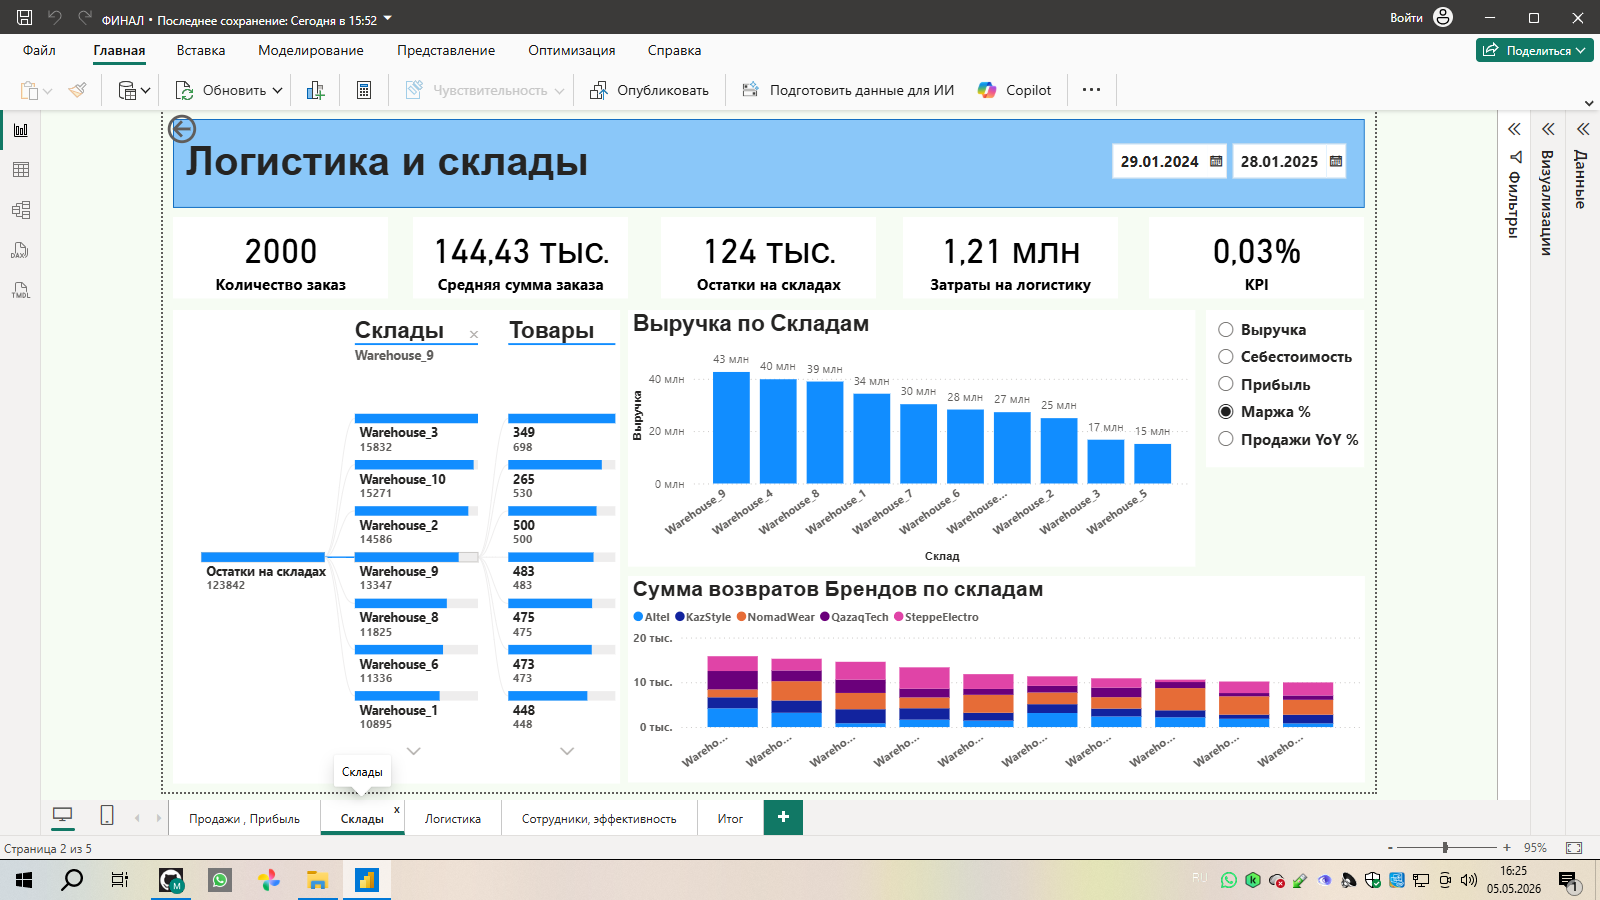

This screenshot's page, from the dashboard's own definition file:
{"tool":"powerbi","page":{"name":"Склады","canvas":[1280,720],"ordinal":1},"visuals":[{"type":"shape","box":[10.3,9,1258.2,93.8],"z":0},{"type":"textbox","box":[19.3,24.4,456.2,64.3],"z":1000},{"type":"slicer","fields":{"Values":["Calendar.Date"]},"box":[989.6,25.7,278.9,60.4],"z":2000},{"type":"card","fields":{"Values":["Summary.Logistics Costs"]},"box":[781.4,113.1,227.5,86.1],"z":3000},{"type":"card","fields":{"Values":["Summary.Остатки на складах"]},"box":[525.6,113.1,227.5,86.1],"z":4000},{"type":"card","fields":{"Values":["Summary.AOV"]},"box":[263.5,113.1,227.5,86.1],"z":5000},{"type":"card","fields":{"Values":["Summary.Заказ"]},"box":[10.3,113.1,227.5,86.1],"z":6000},{"type":"card","fields":{"Values":["Summary.KPI"]},"box":[1041,113.1,227.5,86.1],"z":7000},{"type":"decompositionTreeVisual","fields":{"Analyze":["Summary.Остатки на складах"],"ExplainBy":["Student public_wb.warehouse_name","Student public_stocks.quantity_in_stock"]},"box":[10.3,210.8,471.6,499.9],"z":8000},{"type":"columnChart","title":"Выручка по Складам","fields":{"Y":["Sum(Student public_revenue_wb.revenue_amount)"],"Category":["Student public_wb.warehouse_name"]},"box":[490.9,210.8,598.9,271.2],"z":9000},{"type":"columnChart","title":"Сумма возвратов Брендов по складам","fields":{"Category":["Student public_wb.warehouse_name"],"Y":["Sum(Student public_stocks.quantity_in_stock)"],"Series":["Student nomenclature_reference.brand"]},"box":[490.9,492.2,777.5,218.5],"z":10000},{"type":"slicer","fields":{"Values":["Параметр.Параметр"]},"box":[1101.4,210.8,167.1,165.8],"z":11000},{"type":"actionButton","box":[0,0,100,40],"z":12000}]}

Visuals, with their boxes on the page's 1280x720 design canvas (x1, y1, x2, y2). These are canvas units, not pixel positions in the 1600x900 screenshot, which may show the page scaled, cropped or inside an application window:
shape: {"left": 10, "top": 9, "right": 1268, "bottom": 103}
textbox: {"left": 19, "top": 24, "right": 476, "bottom": 89}
slicer - Calendar.Date: {"left": 990, "top": 26, "right": 1268, "bottom": 86}
card - Summary.Logistics Costs: {"left": 781, "top": 113, "right": 1009, "bottom": 199}
card - Summary.Остатки на складах: {"left": 526, "top": 113, "right": 753, "bottom": 199}
card - Summary.AOV: {"left": 264, "top": 113, "right": 491, "bottom": 199}
card - Summary.Заказ: {"left": 10, "top": 113, "right": 238, "bottom": 199}
card - Summary.KPI: {"left": 1041, "top": 113, "right": 1268, "bottom": 199}
decompositionTreeVisual - Summary.Остатки на складах x Student public_wb.warehouse_name: {"left": 10, "top": 211, "right": 482, "bottom": 711}
"Выручка по Складам" columnChart: {"left": 491, "top": 211, "right": 1090, "bottom": 482}
"Сумма возвратов Брендов по складам" columnChart: {"left": 491, "top": 492, "right": 1268, "bottom": 711}
slicer - Параметр.Параметр: {"left": 1101, "top": 211, "right": 1268, "bottom": 377}
actionButton: {"left": 0, "top": 0, "right": 100, "bottom": 40}
